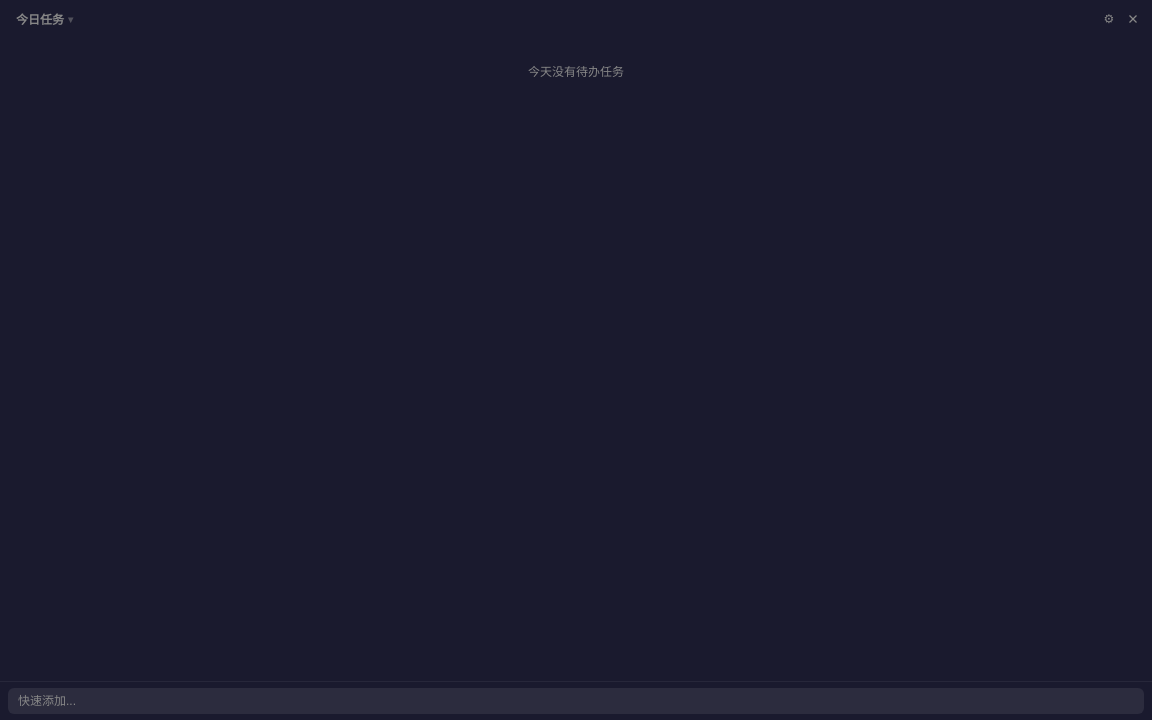
Test: WidgetView.vue › filter › renders list items from getLists response
Click the element with class "filter-dropdown" at (44,20), box [16,13,73,27]
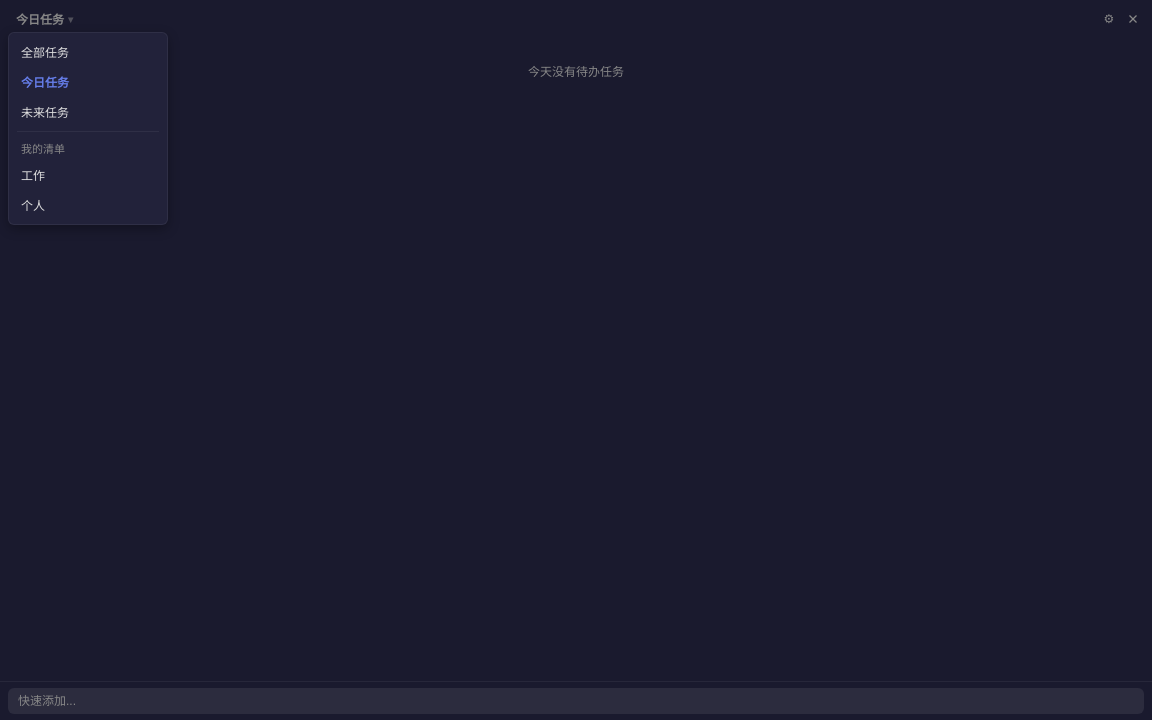
Expected: the text with class "filter-item" reads "工作", [21,169,45,183]
Expected: the text with class "filter-item" reads "个人", [21,199,45,213]
